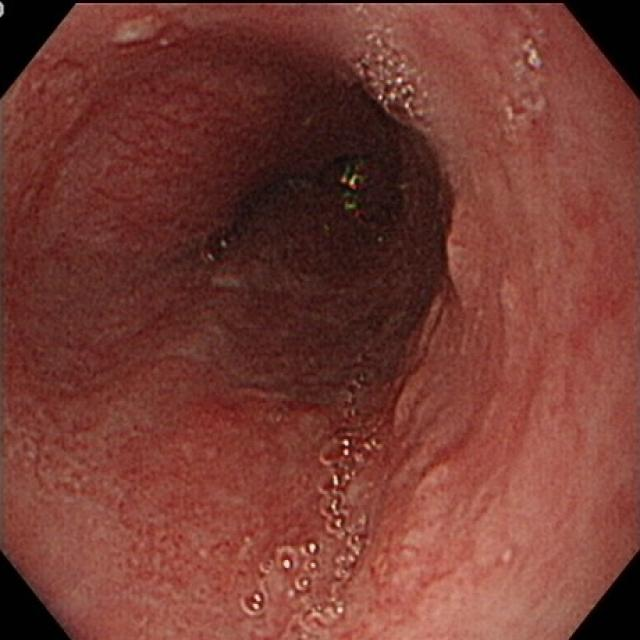A: (394, 199, 575, 592), (101, 483, 232, 594), (202, 387, 330, 445)
J: (499, 36, 552, 130), (110, 15, 179, 50)
T: (311, 370, 391, 629), (355, 26, 437, 136), (241, 539, 323, 616)
